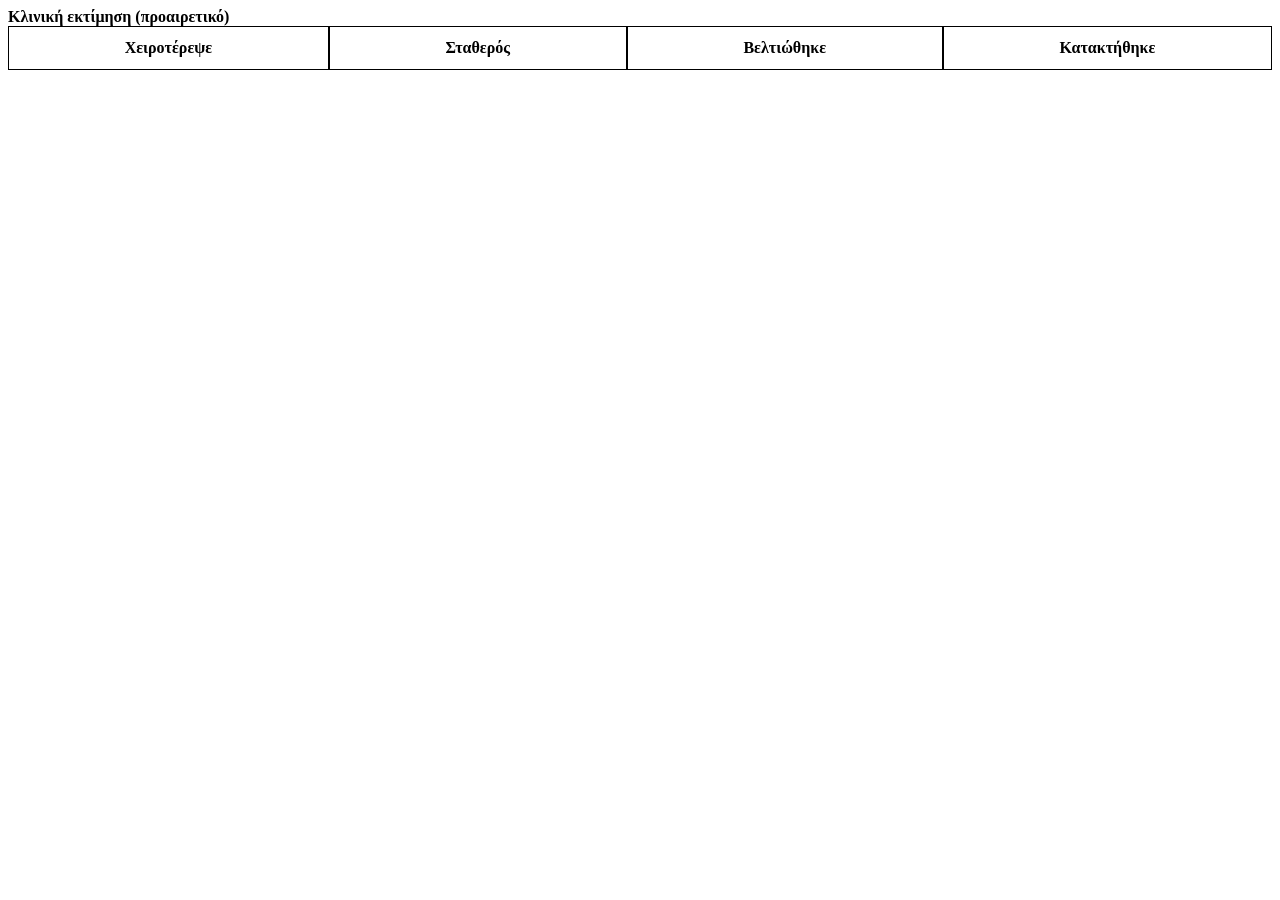
Test: GoalClinicalAssessment — 4 βαθμίδες + προαιρετική σημείωση › «Κατακτήθηκε» + Επιβεβαίωση → επιλέγεται, εμφανίζεται το note field
Click the button "Κατακτήθηκε".
click(1107, 48)  # box top-left (943, 26), bottom-right (1272, 70)
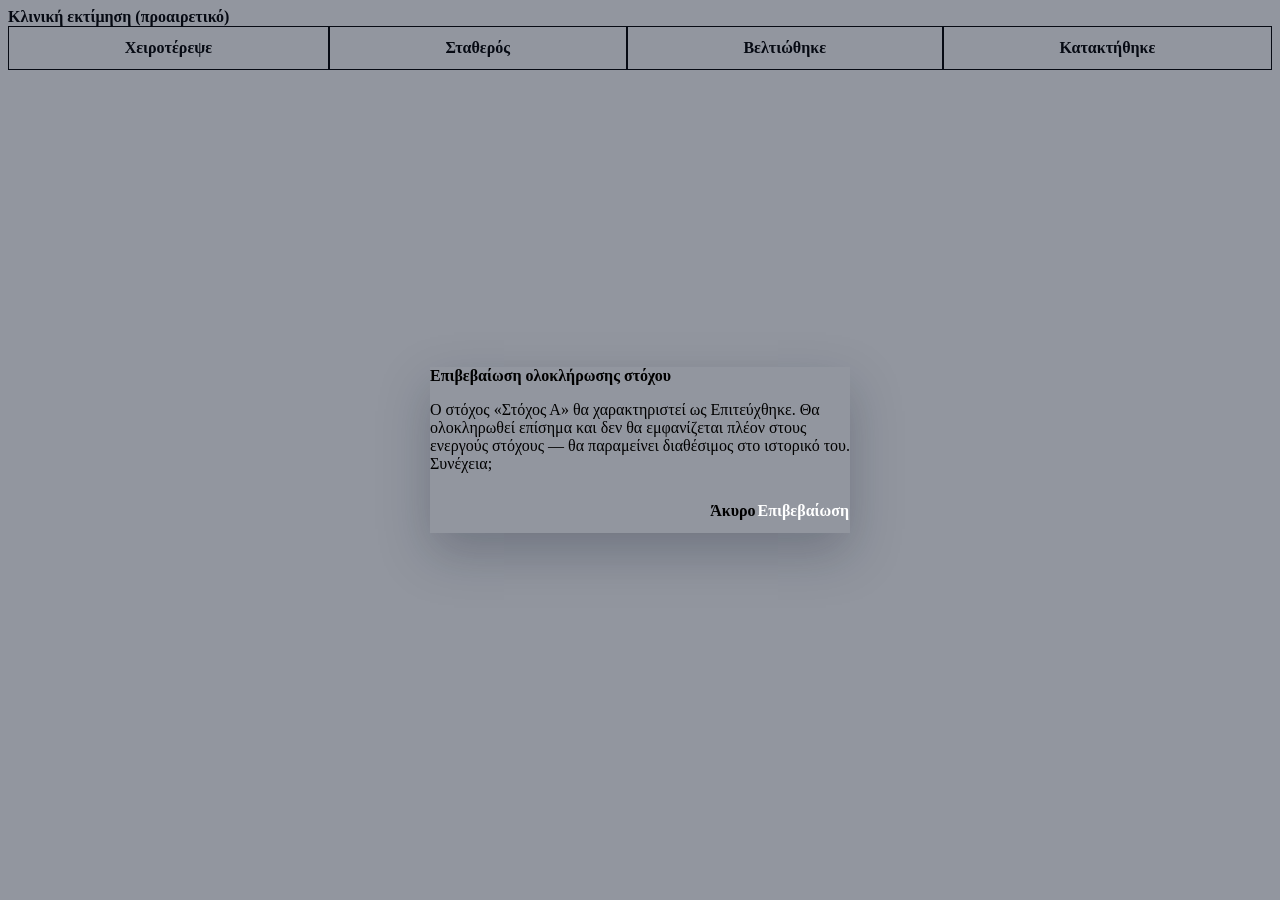
Click the button "Επιβεβαίωση".
click(803, 511)  # box top-left (756, 489), bottom-right (850, 533)
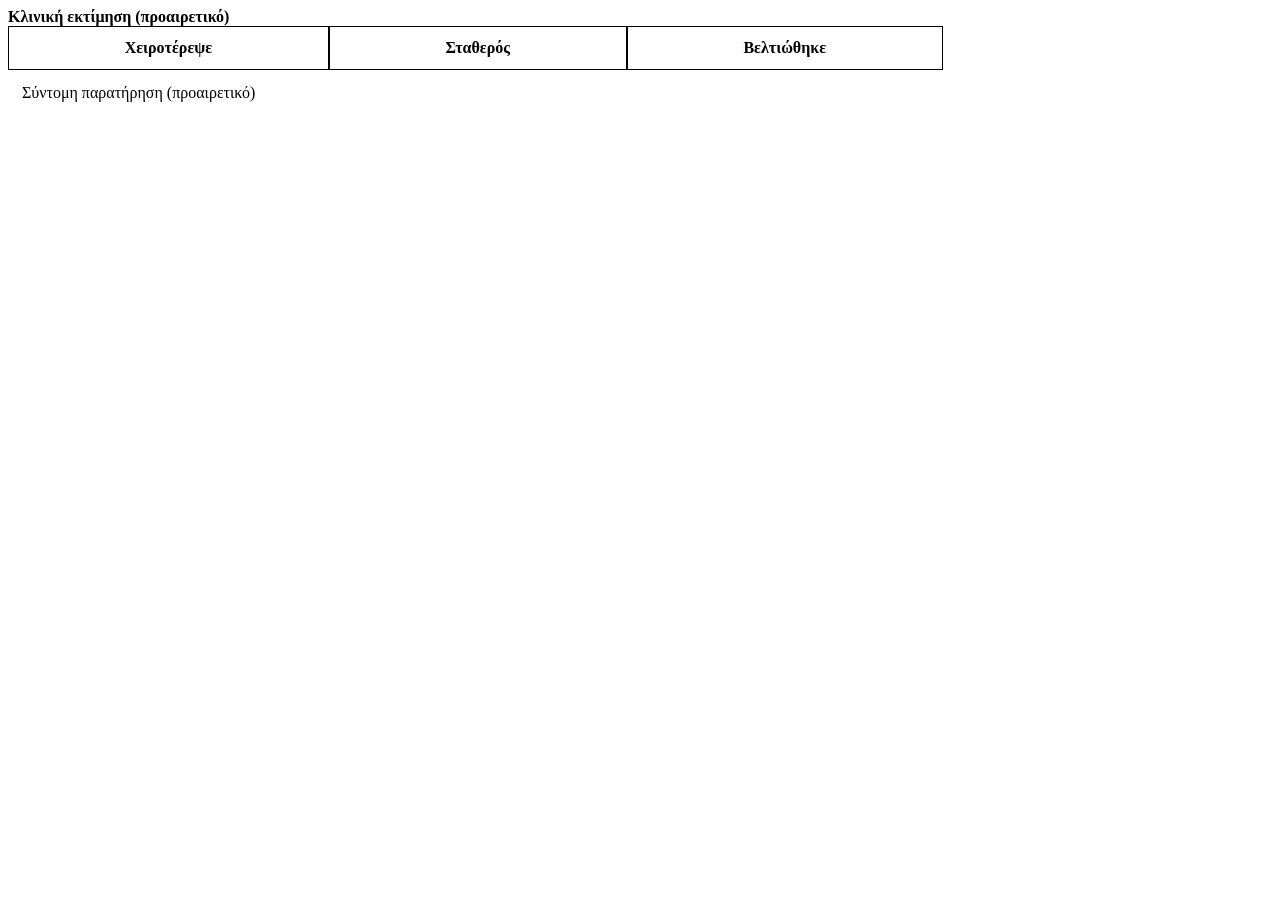
Result: the dialog is gone
